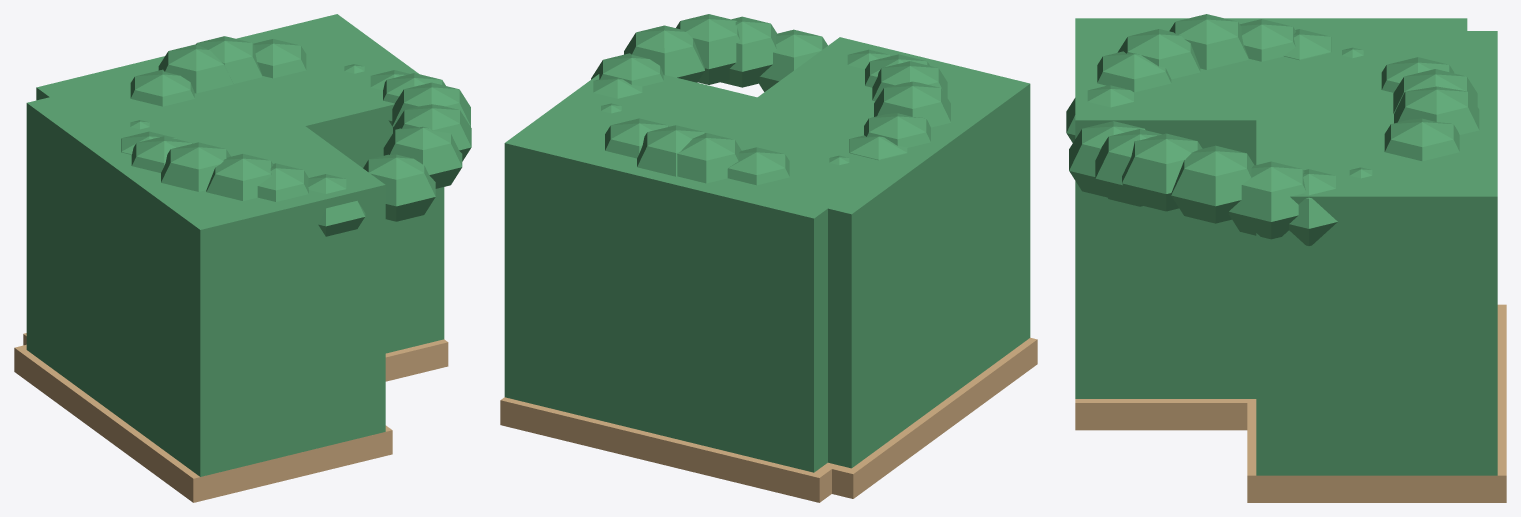
File: lawn-mowing-simulator-kit-hedge-corner-66258f0d__27391.glb
The picture shows the model from 3 angles, left to right: view 1: azimuth 30°, elevation 25°; view 2: azimuth 150°, elevation 25°; view 3: azimuth 270°, elevation 25°; orthographic projection. The views are drawn at different scales.
Parts seen in each view (by area): view 1: hedge-corner; view 2: hedge-corner; view 3: hedge-corner.
Boxes of the visible parts, x1,y1,x2,y2 form: hedge-corner: (14, 14, 471, 502); hedge-corner: (500, 14, 1037, 502); hedge-corner: (1066, 14, 1506, 502).
Size of the model in its own units: 1.5 by 1.23 by 1.46.
